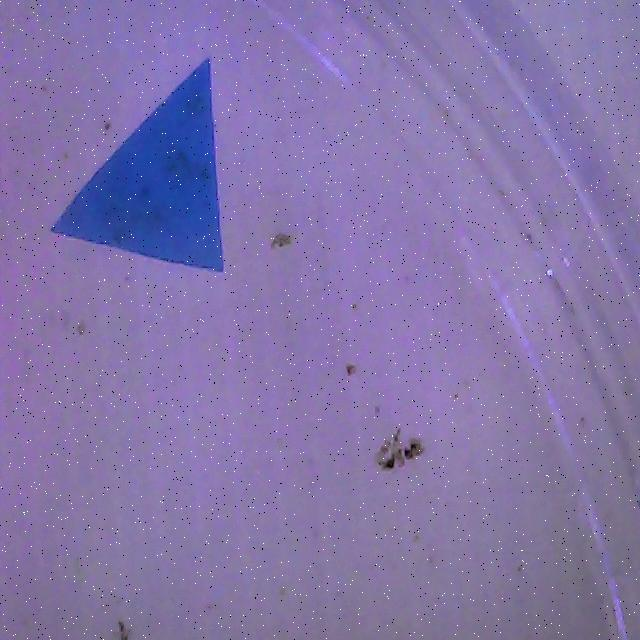fragments: (41, 59, 222, 282)
